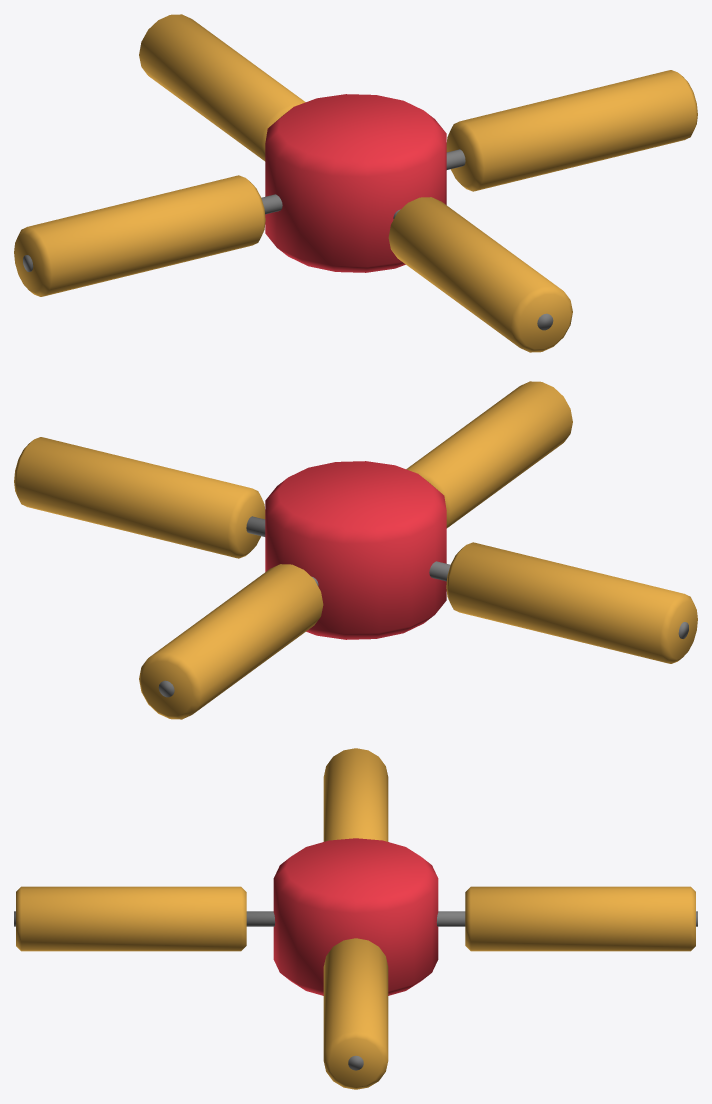
File: Obstacles_V1_00.fbx
3 views of the same model, one above another, from view 1: azimuth 30°, elevation 25°; view 2: azimuth 150°, elevation 25°; view 3: azimuth 270°, elevation 25° (orthographic). The views are drawn at different scales.
Parts seen in each view (by area): view 1: Groot_Obstacles_V1_00; view 2: Groot_Obstacles_V1_00; view 3: Groot_Obstacles_V1_00.
Part boxes in pixels (x1,y1,x2,y2): Groot_Obstacles_V1_00: (14,14,697,352); Groot_Obstacles_V1_00: (14,381,697,719); Groot_Obstacles_V1_00: (14,748,697,1089).
Size of the model in its own units: 1217 by 200 by 1217.
